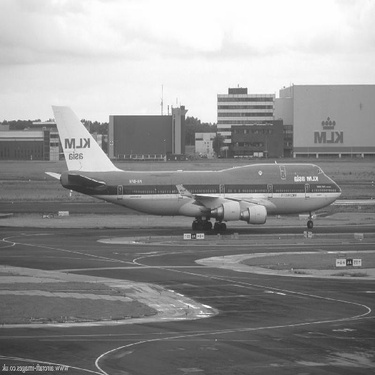airplane: (26, 82, 352, 241)
